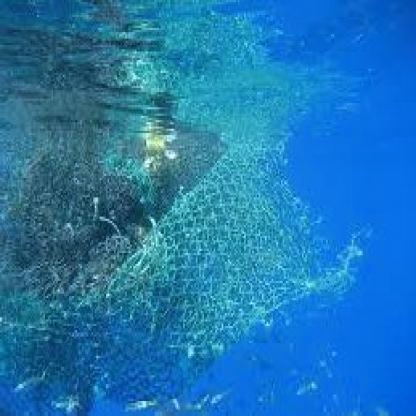net: (2, 118, 306, 349)
